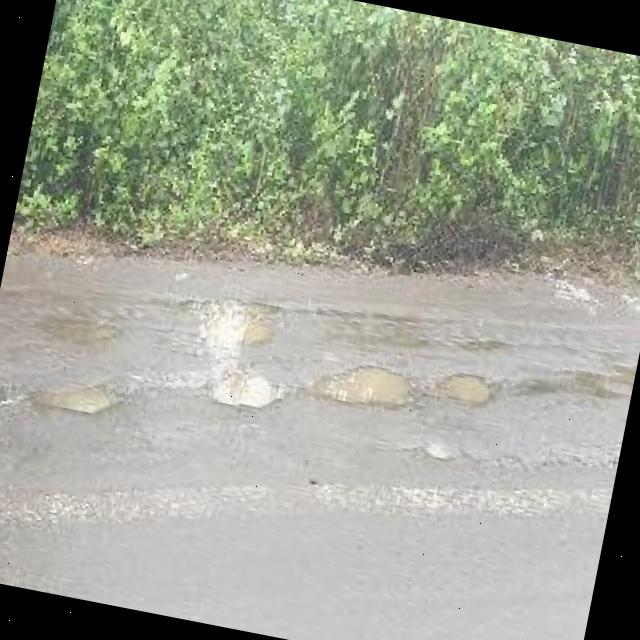stagnation: (294, 324, 512, 462), (150, 267, 306, 443), (4, 285, 150, 456)
